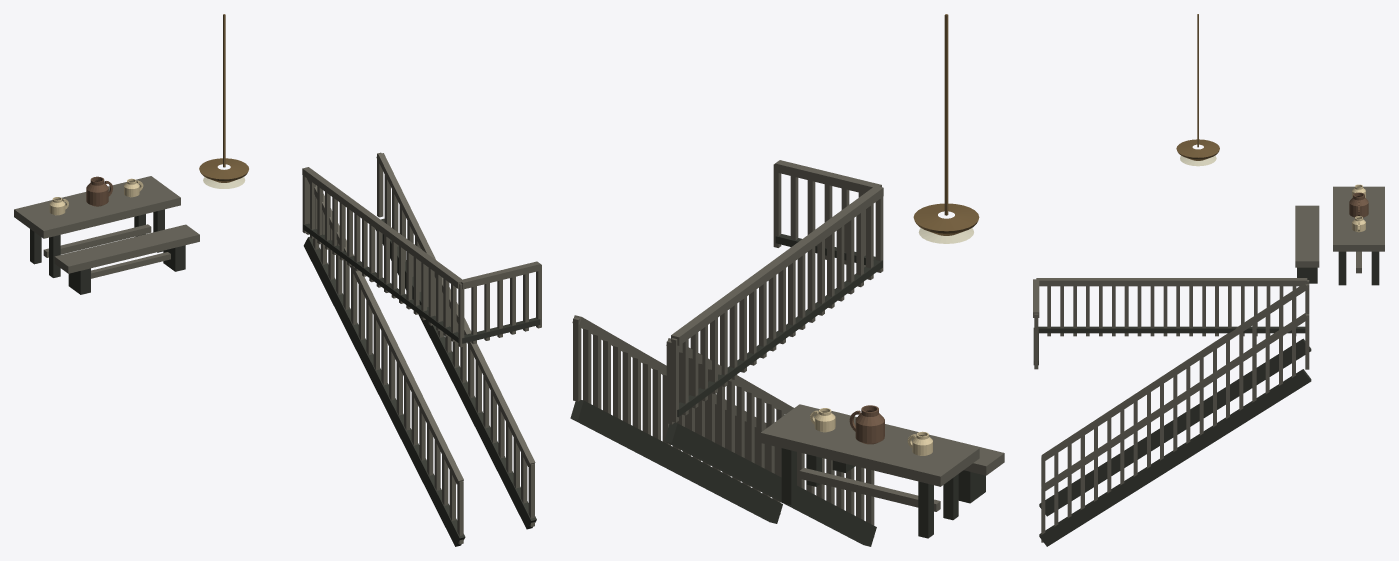
Rendered from upstairs_copperkettle.glb.
3 views of the same model, side by side, from view 1: azimuth 30°, elevation 25°; view 2: azimuth 150°, elevation 25°; view 3: azimuth 270°, elevation 25° (orthographic). The views are drawn at different scales.
Parts seen in each view (by area): view 1: upstairs_copperkettle; view 2: upstairs_copperkettle; view 3: upstairs_copperkettle.
Boxes of the visible parts, box(x1,y1,x2,y2) form: upstairs_copperkettle: box(14, 14, 541, 546); upstairs_copperkettle: box(570, 14, 1004, 546); upstairs_copperkettle: box(1033, 14, 1384, 546).
Size of the model in its own units: 5.71 by 8.43 by 6.12.
